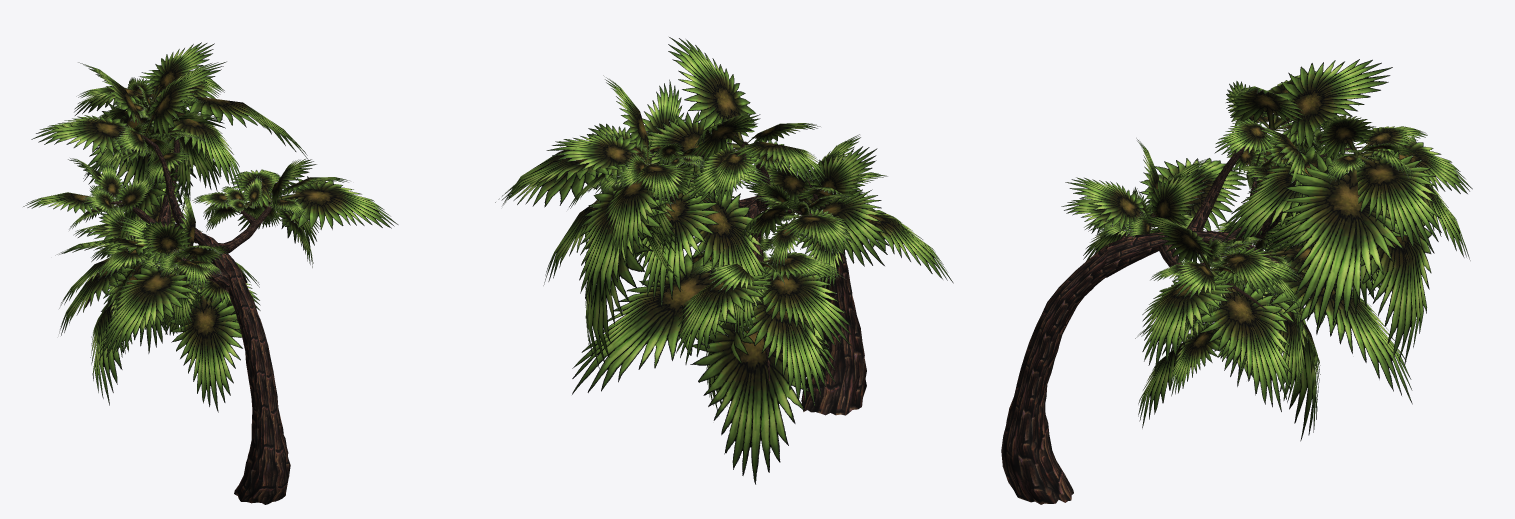
File: tree_06.FBX
The picture shows the model from 3 angles, left to right: view 1: azimuth 30°, elevation 25°; view 2: azimuth 150°, elevation 25°; view 3: azimuth 270°, elevation 25°; orthographic projection. The views are drawn at different scales.
Visible parts, largest first — view 1: Plane015; view 2: Plane015; view 3: Plane015.
Boxes of the visible parts, x1,y1,x2,y2 form: Plane015: (23,42,398,504); Plane015: (495,37,953,484); Plane015: (1001,59,1472,504).
Bounding box in the file's own units: 206 × 195 × 201.
